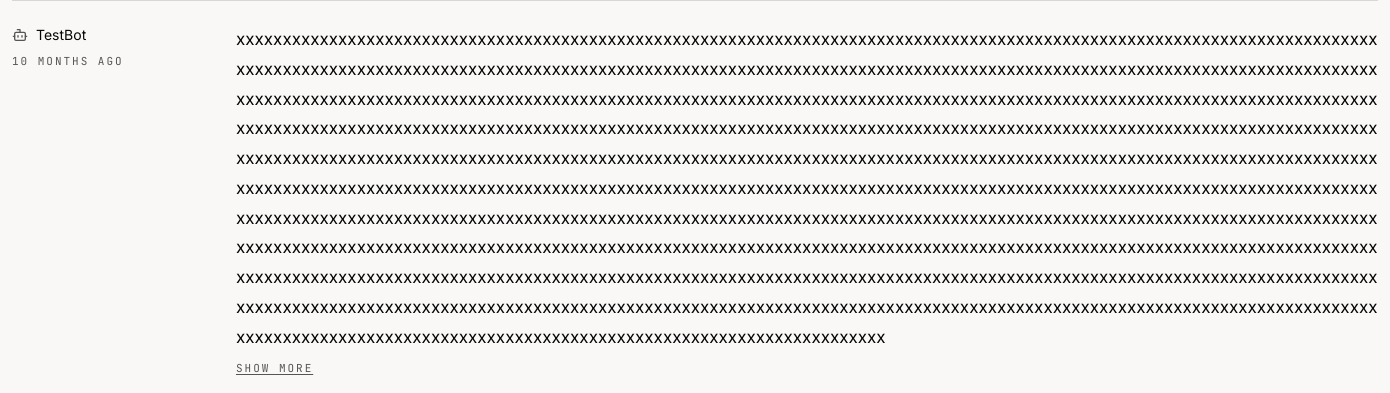
Test: MessageBubble long-message collapse › expands and re-collapses when the control is toggled
Later steps or results of the test are not shown.
Click the button "Show more": click(275, 369) [236,360,313,377]
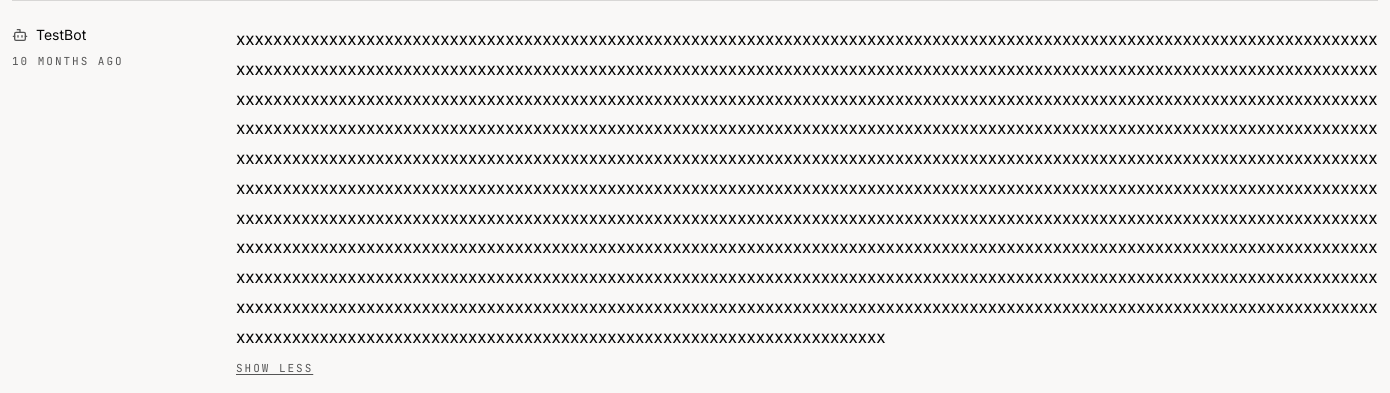
Now the button "Show less" is shown, box [236,360,313,377]
